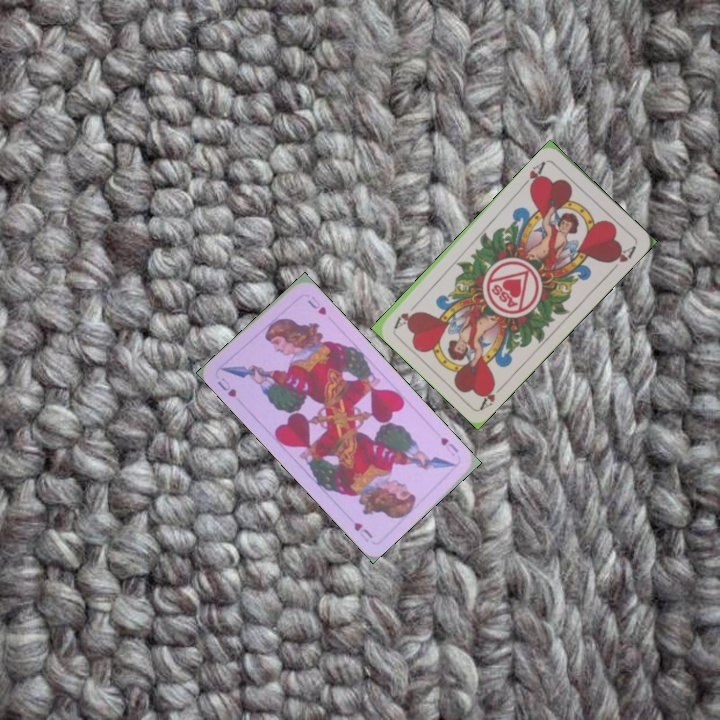HA: (476, 378, 509, 411), (518, 157, 548, 192)
HU: (213, 373, 239, 400), (436, 433, 461, 456)
